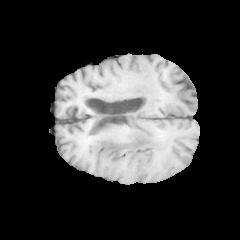glioma: (87, 122, 169, 169)
